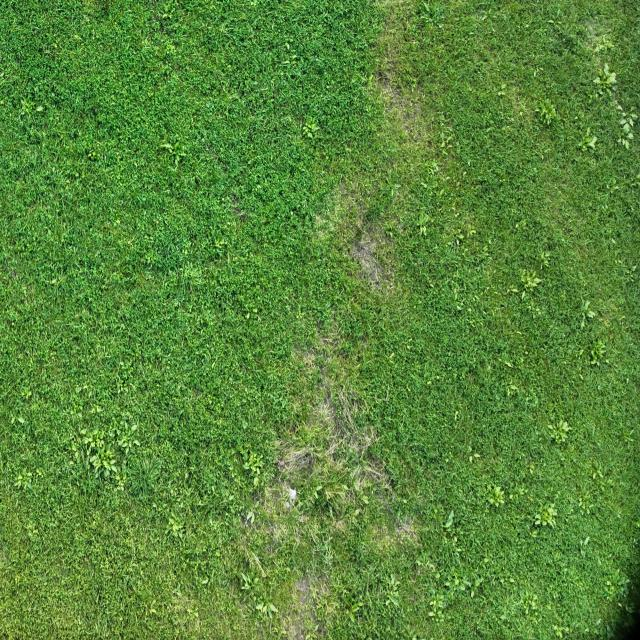rumex: (204, 97, 330, 246), (427, 553, 482, 622), (507, 260, 549, 321), (126, 445, 170, 499), (484, 480, 532, 516), (310, 528, 336, 574), (447, 221, 480, 256), (114, 418, 140, 458), (434, 126, 457, 171), (379, 572, 403, 613), (577, 298, 599, 340), (616, 112, 637, 150), (163, 510, 188, 539), (582, 338, 607, 366), (547, 416, 572, 444), (519, 268, 543, 296), (426, 592, 448, 620), (14, 468, 40, 490), (82, 430, 105, 452), (548, 4, 566, 30), (346, 597, 367, 618), (603, 576, 621, 600), (594, 33, 614, 54), (419, 2, 442, 20), (416, 210, 432, 235), (85, 142, 104, 162), (589, 460, 605, 483), (598, 72, 617, 89), (427, 158, 441, 180), (247, 460, 262, 478), (538, 249, 552, 268), (580, 298, 592, 318), (583, 134, 598, 150), (114, 473, 128, 490), (214, 236, 229, 250), (173, 144, 187, 159), (444, 509, 455, 528), (492, 485, 502, 503), (548, 506, 558, 524), (303, 125, 315, 139), (506, 383, 518, 397), (163, 43, 176, 55), (468, 451, 481, 463), (350, 467, 359, 484), (497, 82, 507, 97), (454, 231, 466, 243), (241, 578, 252, 591), (92, 457, 102, 471), (246, 509, 255, 524), (20, 386, 31, 398), (622, 121, 632, 134), (256, 602, 266, 614), (268, 602, 278, 614), (581, 536, 590, 549), (118, 436, 128, 447), (161, 142, 173, 151), (106, 455, 115, 467), (103, 462, 112, 474), (312, 487, 321, 498), (556, 6, 562, 22), (545, 113, 552, 126), (586, 310, 596, 319), (585, 126, 592, 138), (253, 476, 260, 488), (388, 352, 396, 362), (353, 508, 361, 518), (16, 416, 26, 424), (616, 104, 626, 112), (361, 495, 369, 505), (130, 422, 138, 432), (174, 155, 180, 167), (580, 318, 586, 330), (468, 229, 477, 237), (122, 420, 128, 432), (620, 117, 628, 126), (454, 237, 461, 247), (503, 361, 513, 368), (479, 14, 487, 22), (161, 13, 170, 20), (529, 464, 535, 474), (521, 290, 527, 300), (439, 141, 446, 149), (577, 348, 584, 356), (581, 142, 588, 150), (357, 600, 364, 608), (243, 462, 250, 470), (427, 610, 435, 617), (454, 410, 460, 419), (253, 576, 259, 585), (533, 68, 538, 78), (440, 132, 446, 140), (35, 106, 43, 112), (254, 500, 260, 508), (252, 307, 258, 314), (498, 90, 504, 97), (246, 312, 251, 320), (285, 43, 290, 51), (469, 455, 474, 463), (636, 172, 640, 180), (74, 172, 79, 178)
